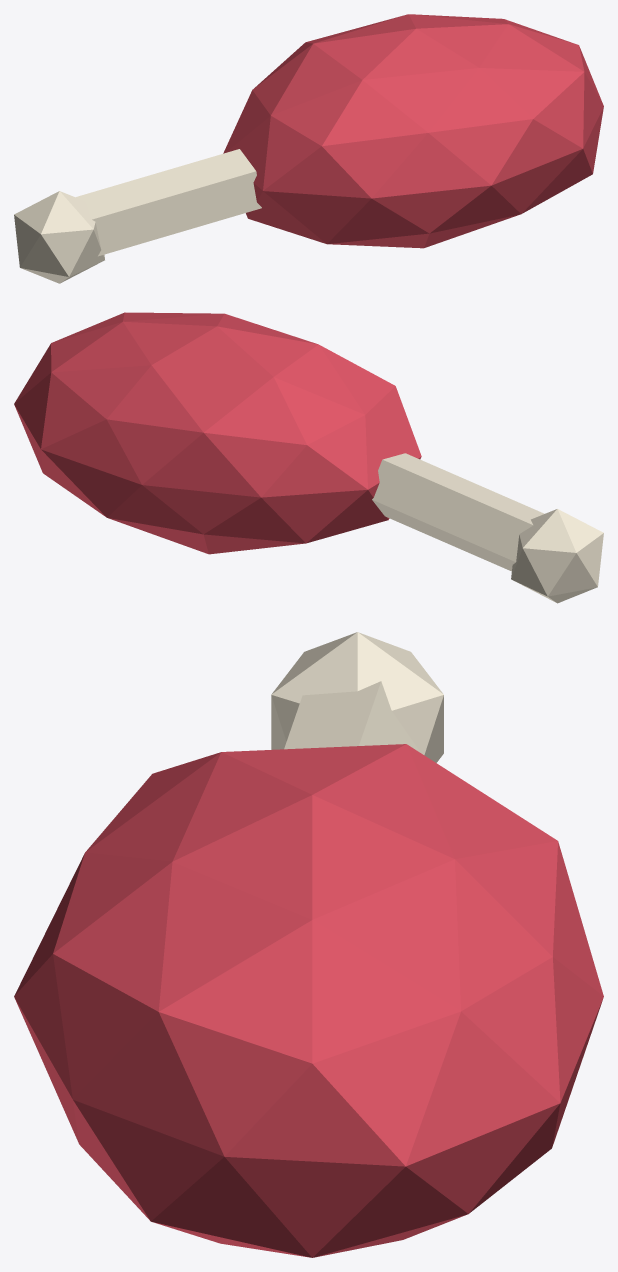
The model's file is item_011_meat_s.glb.
3 renders of one model, top to bottom at view 1: azimuth 30°, elevation 25°; view 2: azimuth 150°, elevation 25°; view 3: azimuth 270°, elevation 25°, orthographic. The views are drawn at different scales.
Parts seen in each view (by area): view 1: item_011_meat_s; view 2: item_011_meat_s; view 3: item_011_meat_s.
Boxes of the visible parts, box(x1,y1,x2,y2) form: item_011_meat_s: box(14, 14, 603, 283); item_011_meat_s: box(14, 312, 603, 603); item_011_meat_s: box(14, 632, 603, 1257).
Bounding box in the file's own units: 0.5683 × 0.1886 × 0.2613.
